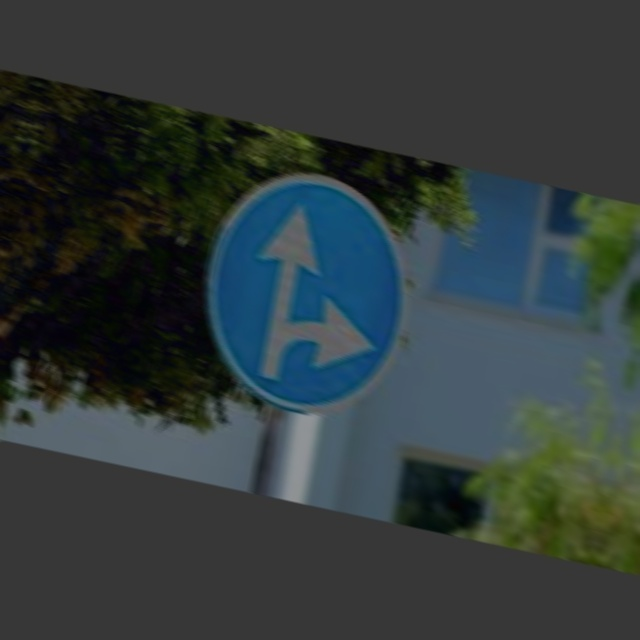Compulsory_Ahead_or_Turn_Right: (187, 157, 436, 432)
